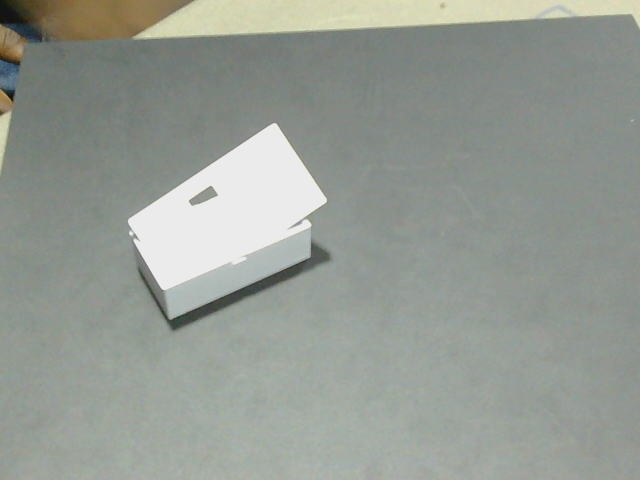enclosure_good: (129, 124, 326, 289)
